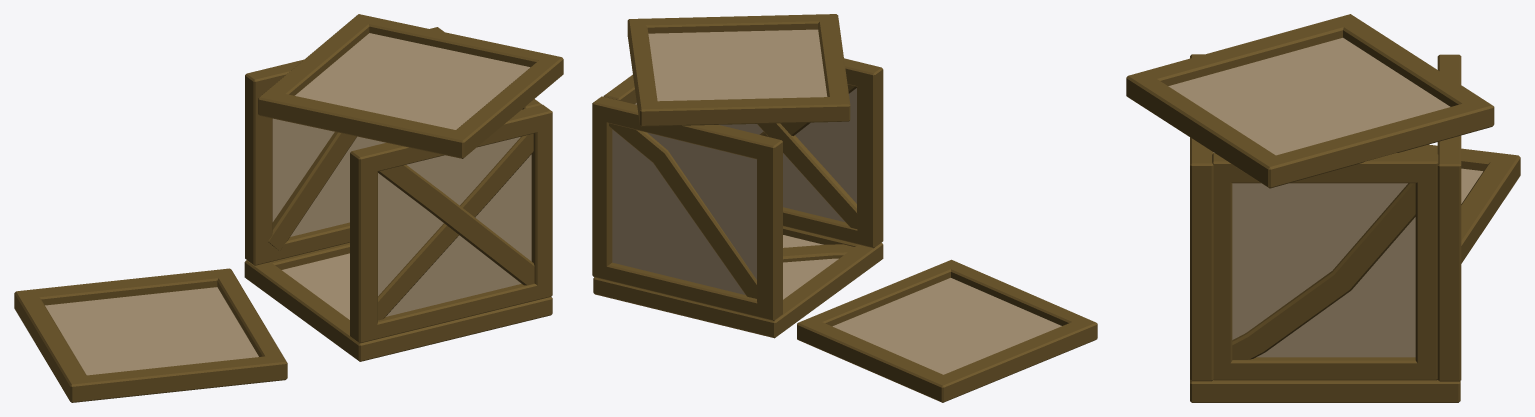
The model's file is SM_Crate_Broken_Placeholder.fbx.
The picture shows the model from 3 angles, left to right: view 1: azimuth 30°, elevation 25°; view 2: azimuth 150°, elevation 25°; view 3: azimuth 270°, elevation 25°; orthographic projection. The views are drawn at different scales.
Visible parts, largest first — view 1: SM_CrateRight, SM_CrateTop, SM_CrateFront, SM_CrateLeft, SM_CrateBottom; view 2: SM_CrateLeft, SM_CrateFront, SM_CrateTop, SM_CrateRight, SM_CrateBottom, SM_CrateBack; view 3: SM_CrateBack, SM_CrateTop, SM_CrateLeft, SM_CrateBottom, SM_CrateRight, SM_CrateFront.
Boxes of the visible parts, x1,y1,x2,y2 form: SM_CrateRight: (350,104,552,343); SM_CrateTop: (258,14,563,158); SM_CrateFront: (14,268,287,402); SM_CrateLeft: (245,27,443,265); SM_CrateBottom: (244,242,552,361); SM_CrateLeft: (592,96,782,320); SM_CrateFront: (797,259,1097,402); SM_CrateTop: (627,14,850,126); SM_CrateRight: (719,58,883,248); SM_CrateBottom: (593,226,883,338); SM_CrateBack: (603,74,636,104); SM_CrateBack: (1212,153,1438,380); SM_CrateTop: (1126,14,1494,188); SM_CrateLeft: (1437,54,1461,381); SM_CrateBottom: (1190,380,1460,402); SM_CrateRight: (1190,54,1213,381); SM_CrateFront: (1399,144,1520,263).
Bounding box in the file's own units: 817 × 351 × 481.
